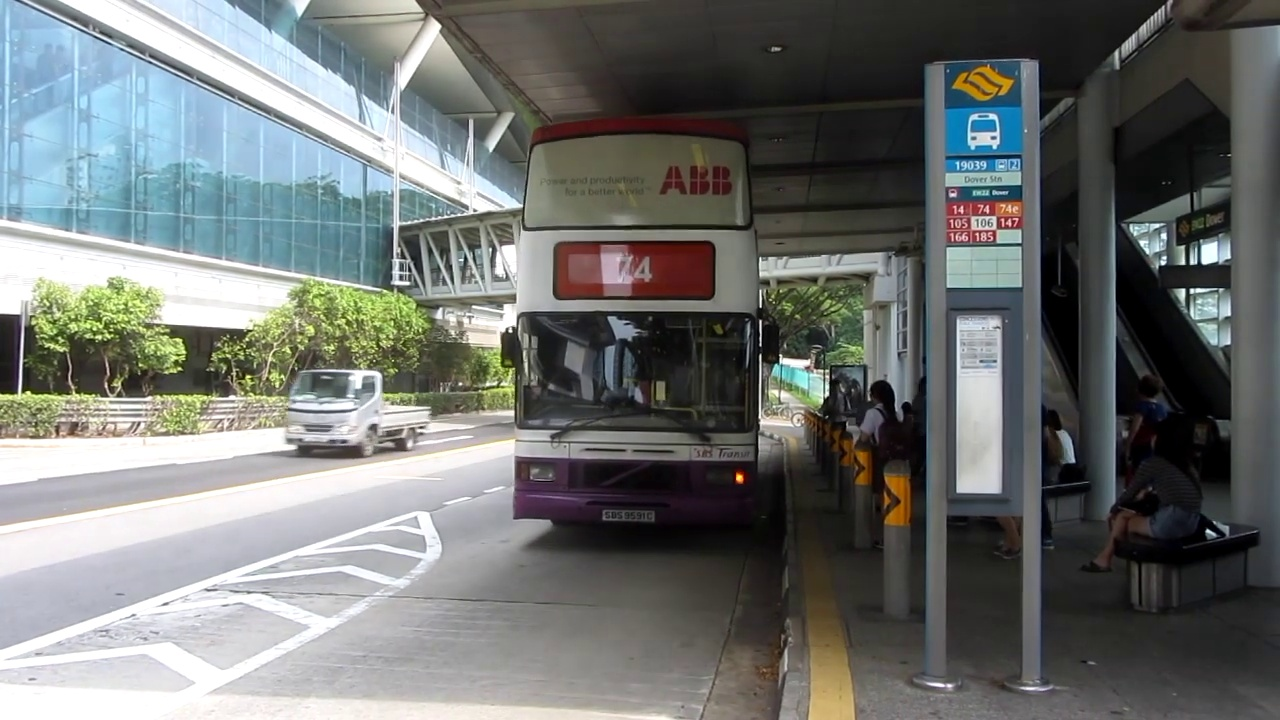bus panel: (551, 240, 717, 302)
